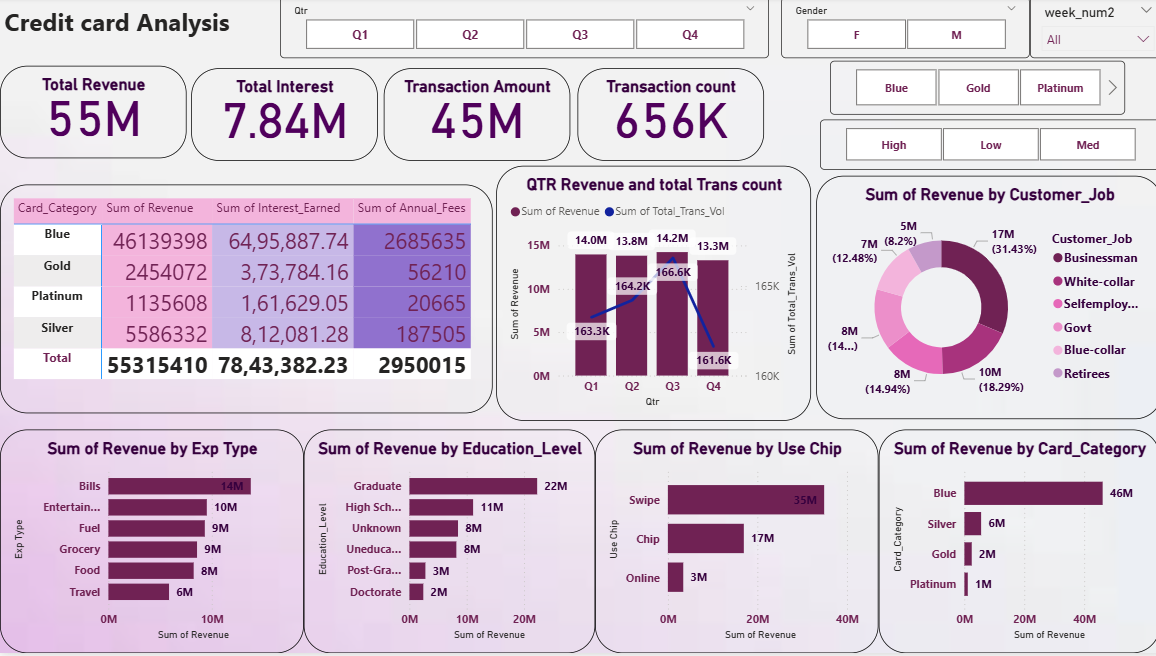

The page's visual inventory and layout, read from the dashboard file:
{"tool":"powerbi","page":{"name":"Page 1","canvas":[1280,720],"ordinal":0},"visuals":[{"type":"textbox","box":[0,4.1,289.5,57.6],"z":0},{"type":"lineStackedColumnComboChart","title":"QTR Revenue and total Trans count","fields":{"Category":["credit_card.Qtr"],"Y":["Sum(credit_card.Revenue)"],"Y2":["Sum(credit_card.Total_Trans_Vol)"]},"box":[544.8,185.2,345.8,279.9],"z":1000},{"type":"barChart","fields":{"Y":["Sum(credit_card.Revenue)"],"Category":["credit_card.Exp Type"]},"box":[0,474.8,333.4,245.6],"z":2000},{"type":"barChart","fields":{"Category":["customer.Education_Level"],"Y":["Sum(credit_card.Revenue)"]},"box":[333.4,474.8,319.7,245.6],"z":3000},{"type":"donutChart","fields":{"Y":["Sum(credit_card.Revenue)"],"Category":["customer.Customer_Job"]},"box":[896.1,196.2,380.1,267.6],"z":4000},{"type":"barChart","fields":{"Y":["Sum(credit_card.Revenue)"],"Category":["credit_card.Card_Category"]},"box":[964.7,474.8,308.7,245.6],"z":5000},{"type":"barChart","fields":{"Y":["Sum(credit_card.Revenue)"],"Category":["credit_card.Use Chip"]},"box":[653.2,474.8,311.5,245.6],"z":6000},{"type":"pivotTable","fields":{"Rows":["credit_card.Card_Category"],"Values":["Sum(credit_card.Revenue)","Sum(credit_card.Interest_Earned)","Sum(credit_card.Annual_Fees)"]},"box":[0,205.8,540.7,251.1],"z":7000},{"type":"card","title":"Total Revenue","fields":{"Values":["Sum(credit_card.Revenue)"]},"box":[0,75.5,204.5,101.5],"z":8000},{"type":"card","title":"Total Interest","fields":{"Values":["Sum(credit_card.Interest_Earned)"]},"box":[209.9,78.2,204.5,101.5],"z":9000},{"type":"card","title":" Transaction Amount","fields":{"Values":["Sum(credit_card.Total_Trans_Amt)"]},"box":[421.3,78.2,204.5,101.5],"z":10000},{"type":"card","title":" Transaction  count","fields":{"Values":["Sum(credit_card.Total_Trans_Vol)"]},"box":[634,78.2,204.5,101.5],"z":11000},{"type":"slicer","title":"QTR","fields":{"Values":["credit_card.Qtr"]},"box":[307.4,0,536.5,67.2],"z":12000},{"type":"slicer","fields":{"Values":["credit_card.week_num2"]},"box":[1130.7,0,149.6,67.2],"z":13000},{"type":"slicer","title":"CArd Category","fields":{"Values":["credit_card.Card_Category"]},"box":[911.2,70,323.8,59],"z":14000},{"type":"slicer","title":"Income group","fields":{"Values":["customer.IncomeGroup"]},"box":[900.2,134.5,373.2,54.9],"z":15000},{"type":"slicer","title":"Gender","fields":{"Values":["customer.Gender"]},"box":[857.6,0,273.1,67.2],"z":16000}]}

Visuals, with their boxes in screenshot pixels (x1, y1, x2, y2), scaled from the page's 1280x720 canvas onto the 1156x656 screenshot:
textbox: [0, 4, 261, 56]
"QTR Revenue and total Trans count" lineStackedColumnComboChart: [492, 169, 804, 424]
barChart - Sum(credit_card.Revenue) x credit_card.Exp Type: [0, 433, 301, 655]
barChart - customer.Education_Level x Sum(credit_card.Revenue): [301, 433, 590, 655]
donutChart - Sum(credit_card.Revenue) x customer.Customer_Job: [809, 179, 1153, 423]
barChart - Sum(credit_card.Revenue) x credit_card.Card_Category: [871, 433, 1150, 655]
barChart - Sum(credit_card.Revenue) x credit_card.Use Chip: [590, 433, 871, 655]
pivotTable - credit_card.Card_Category x Sum(credit_card.Revenue): [0, 188, 488, 416]
"Total Revenue" card: [0, 69, 185, 161]
"Total Interest" card: [190, 71, 374, 164]
" Transaction Amount" card: [380, 71, 565, 164]
" Transaction  count" card: [573, 71, 757, 164]
"QTR" slicer: [278, 0, 762, 61]
slicer - credit_card.week_num2: [1021, 0, 1155, 61]
"CArd Category" slicer: [823, 64, 1115, 118]
"Income group" slicer: [813, 123, 1150, 173]
"Gender" slicer: [775, 0, 1021, 61]
